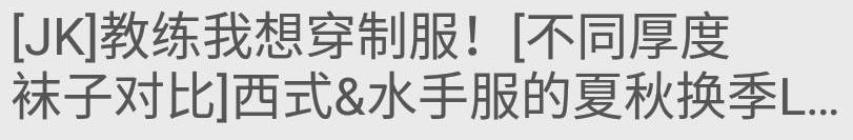TextView: (1, 1, 852, 139)
